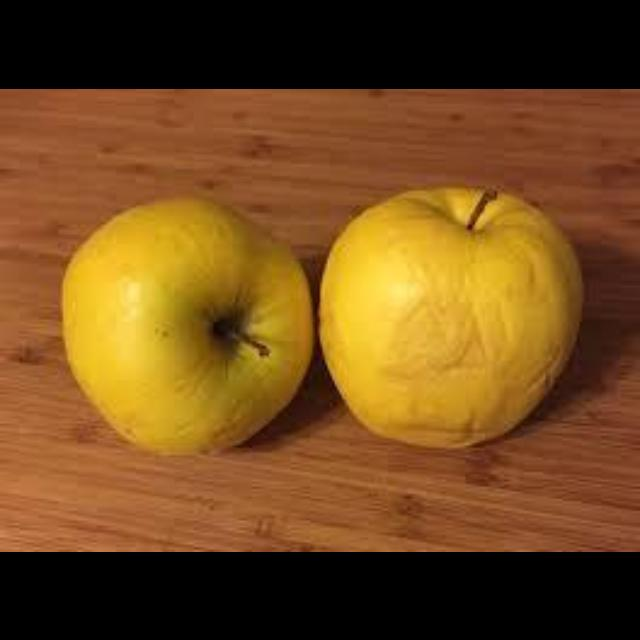apple: (322, 185, 582, 444), (63, 197, 310, 452)
